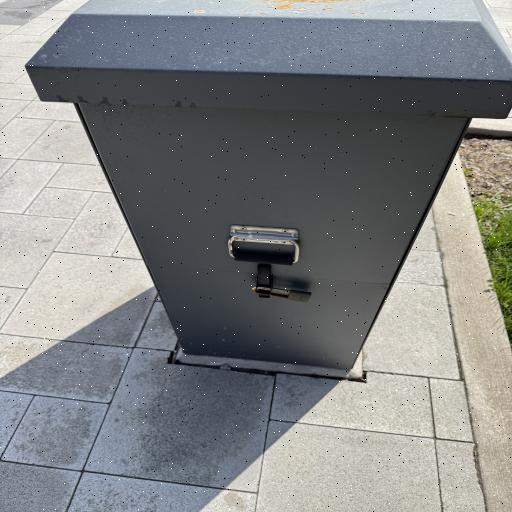Electrical Box: (25, 1, 512, 372)
